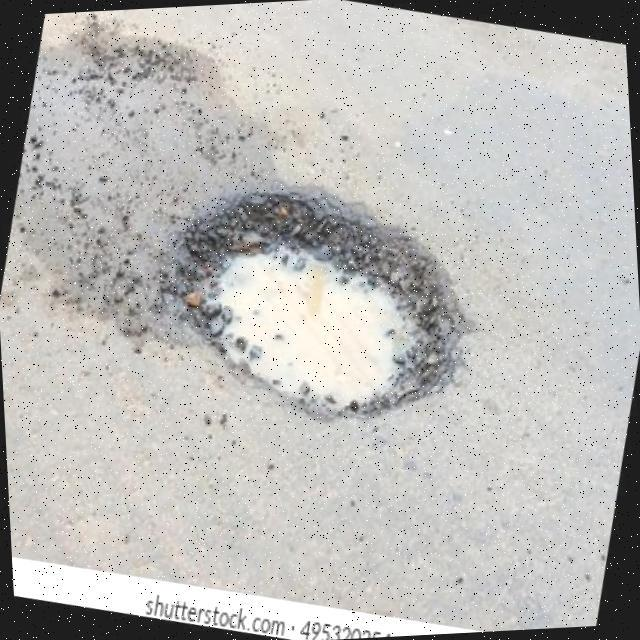Pothole: (167, 189, 466, 423)
